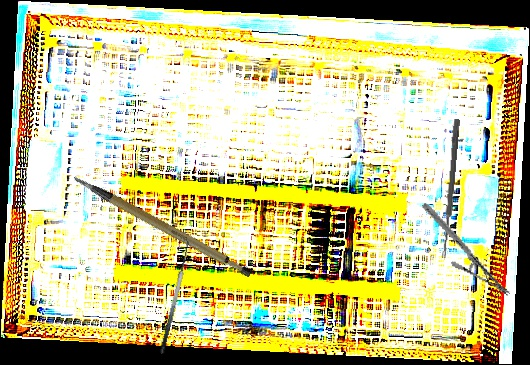Needle Holder: (403, 202, 529, 297)
Scalpel Handle: (72, 149, 255, 300)
Spatula Surgical: (149, 238, 195, 355)
Surgical Spoon: (440, 118, 461, 259)
